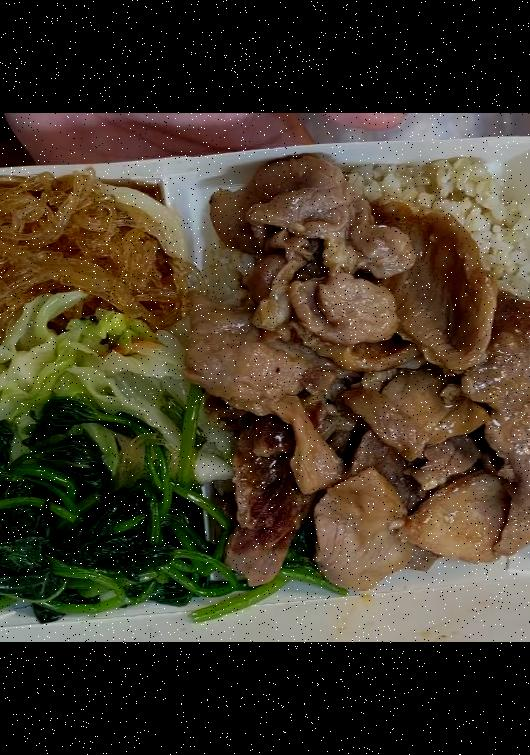box: (0, 134, 530, 632)
sauteed pork: (226, 171, 530, 577)
side dish: (0, 479, 232, 619), (0, 187, 173, 338), (0, 331, 188, 464)
white rice: (208, 140, 530, 593)
